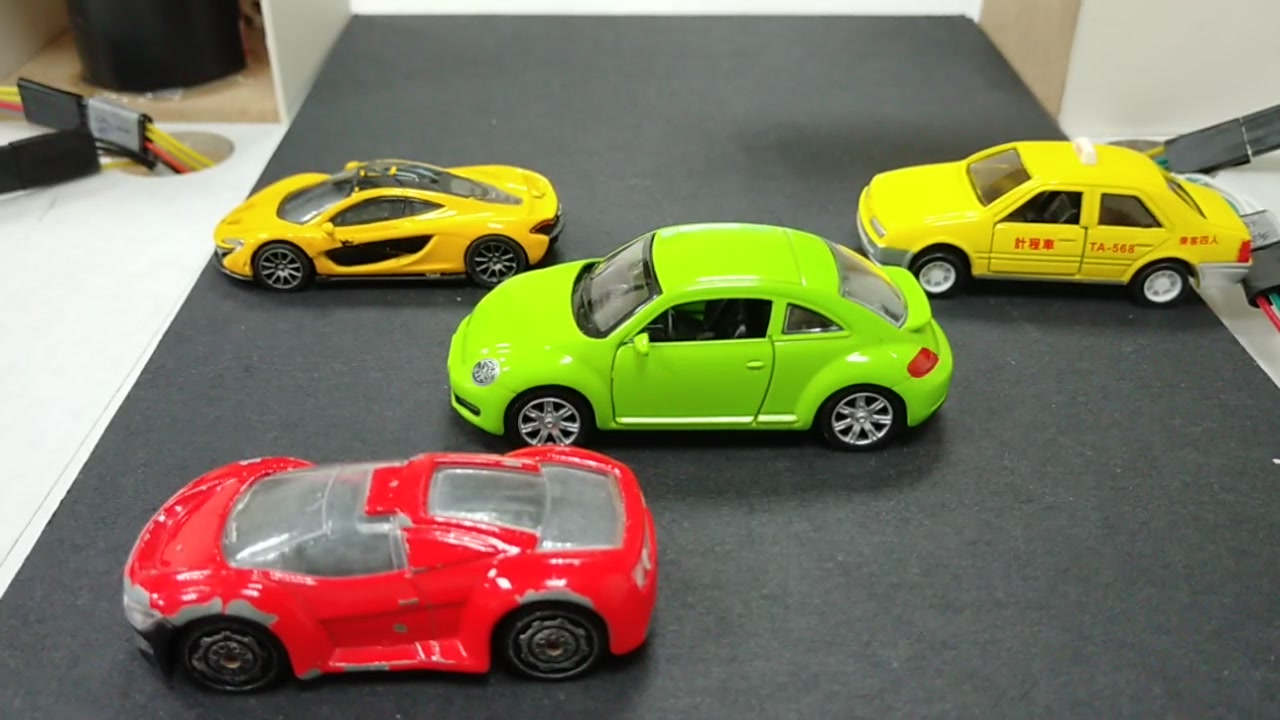car: (122, 448, 657, 681), (453, 219, 952, 465), (858, 135, 1251, 298), (215, 163, 562, 290)
